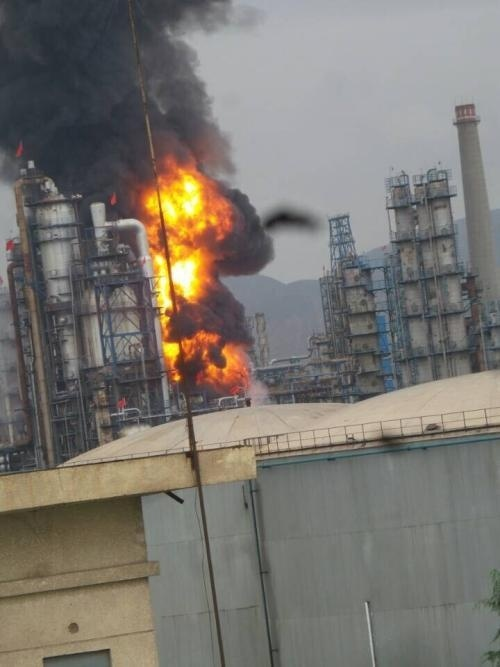fire: (147, 160, 245, 383)
